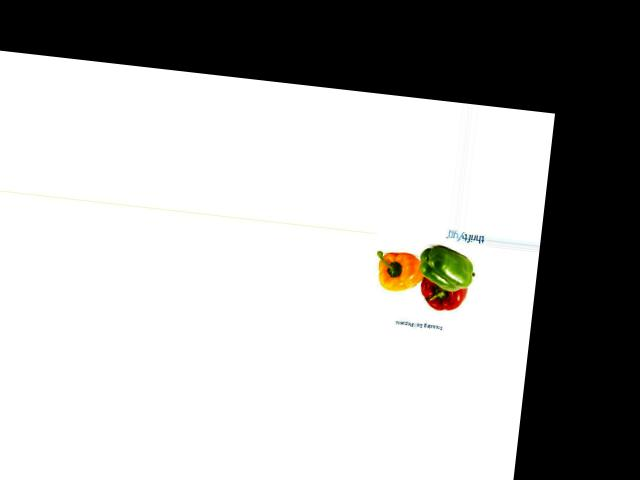bell_pepper: (412, 238, 479, 292)
